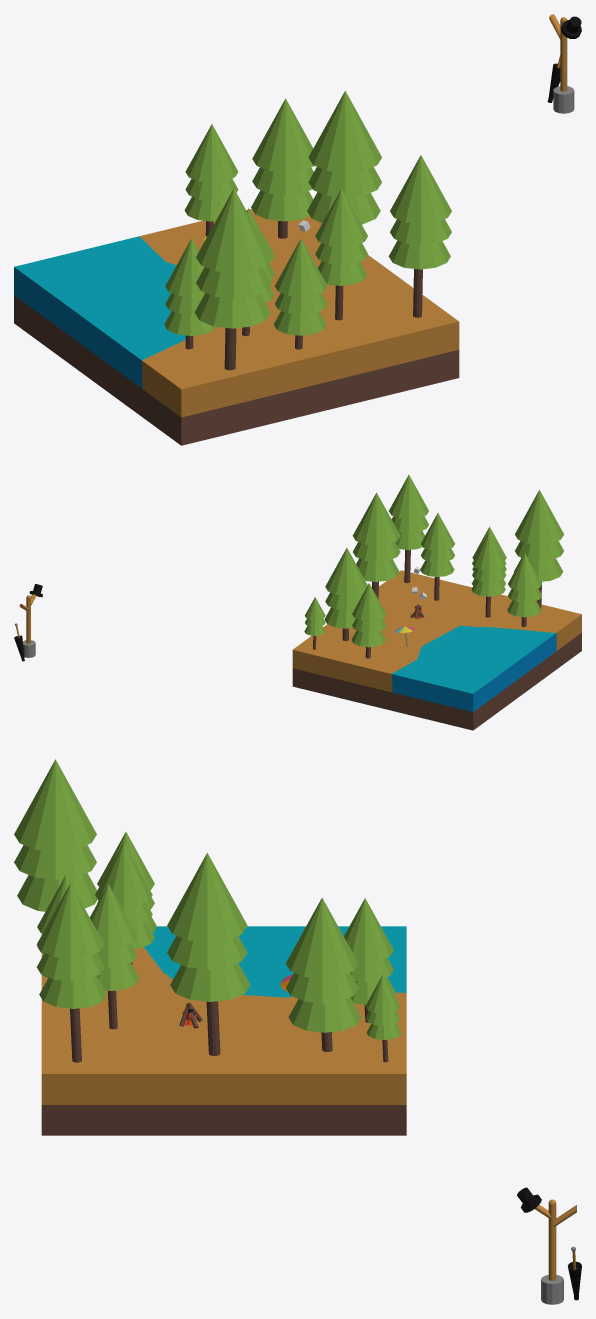
3 renders of one model, top to bottom at view 1: azimuth 30°, elevation 25°; view 2: azimuth 150°, elevation 25°; view 3: azimuth 270°, elevation 25°, orthographic. The views are drawn at different scales.
Parts seen in each view (by area): view 1: node_MeshObject634617792-PolyPaper22; view 2: node_MeshObject634617792-PolyPaper22; view 3: node_MeshObject634617792-PolyPaper22.
Boxes of the visible parts, box(x1,y1,x2,y2) form: node_MeshObject634617792-PolyPaper22: box(14, 14, 581, 445); node_MeshObject634617792-PolyPaper22: box(14, 475, 581, 730); node_MeshObject634617792-PolyPaper22: box(14, 759, 581, 1304).
Bounding box in the file's own units: 3.14 × 1.15 × 2.26.
